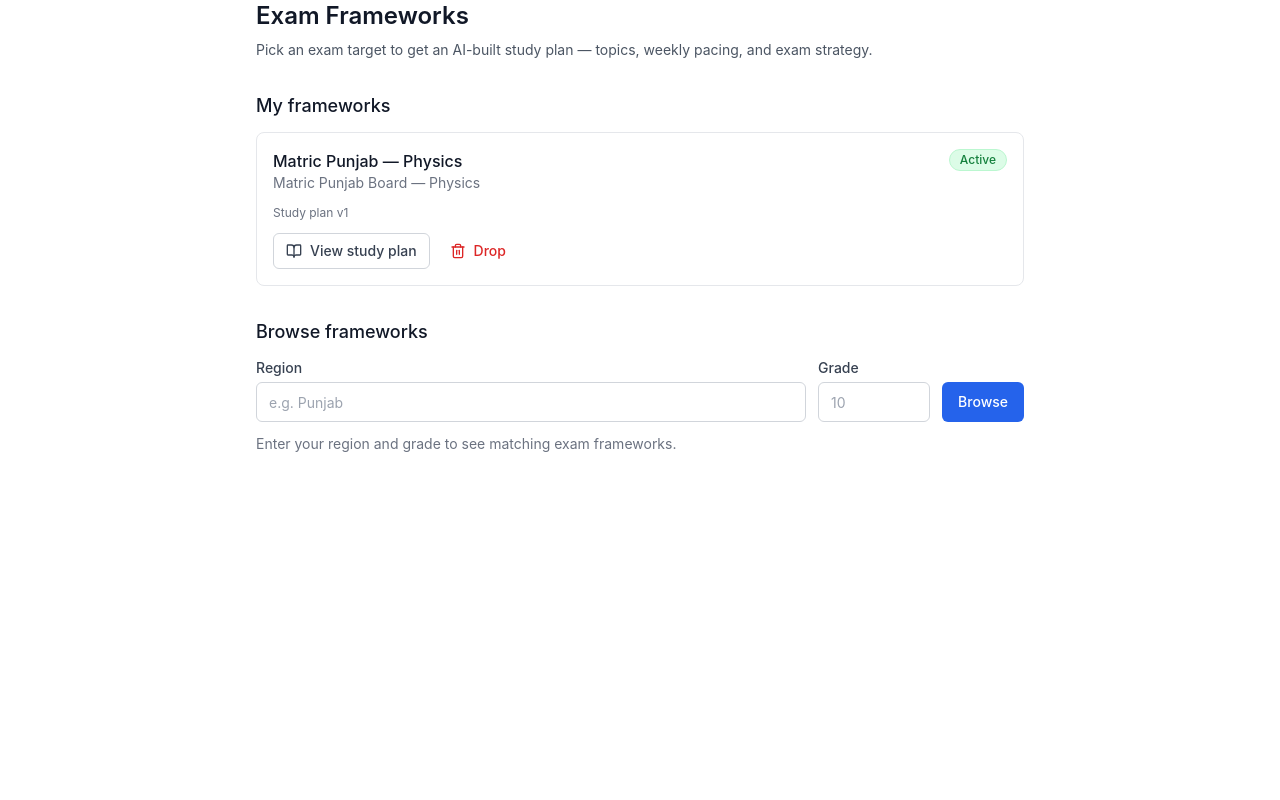
Test case: StudentFrameworksClient (T-096) › opens the study-plan modal and renders topics
Check: the text "Matric Punjab — Physics" is shown, box [273,149,480,173]
Click the button "View study plan".
click(351, 251)  # box [273,233,430,269]
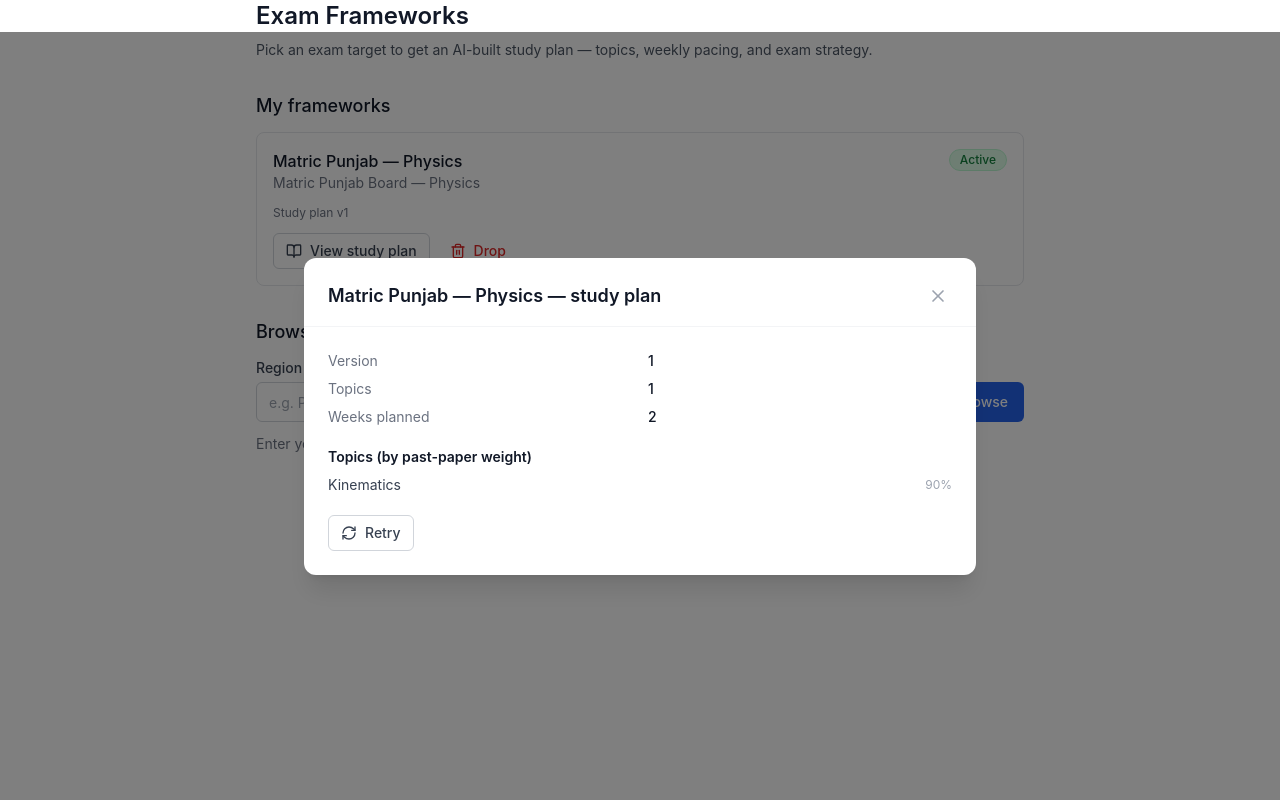
Check: the text "Kinematics" is shown, box [328,474,401,494]
